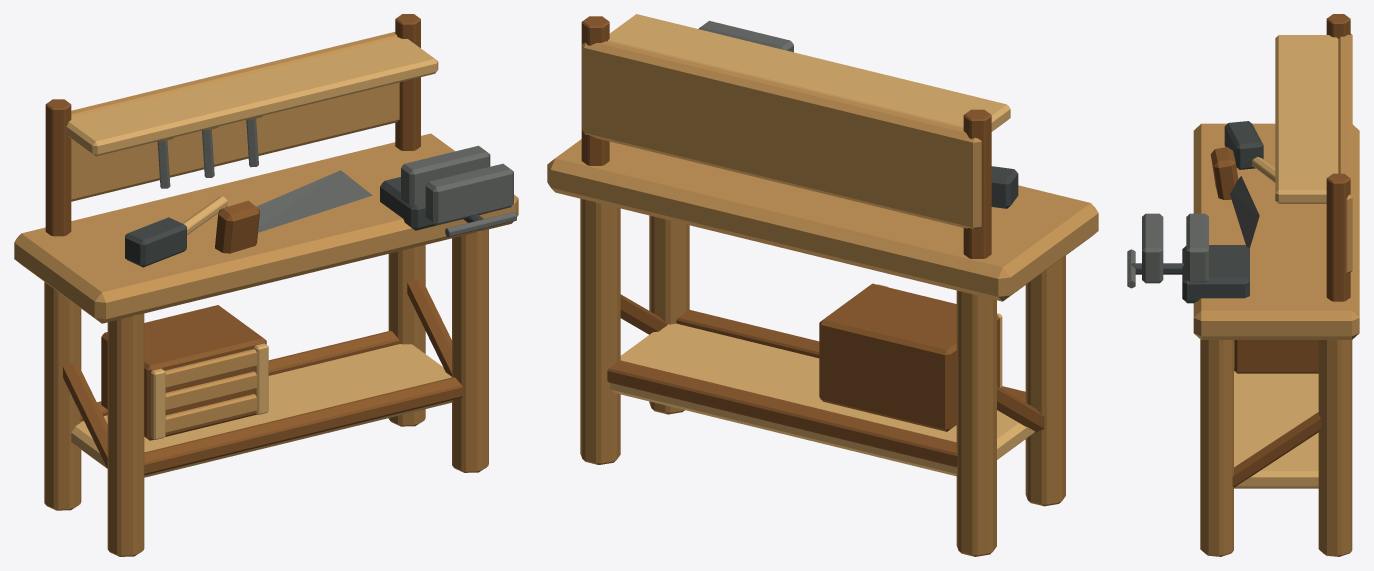
Rendered from island_workbench.glb.
3 renders of one model, left to right at view 1: azimuth 30°, elevation 25°; view 2: azimuth 150°, elevation 25°; view 3: azimuth 270°, elevation 25°, orthographic. The views are drawn at different scales.
Visible parts, largest first — view 1: Workbench_Top, Workbench_Tool_Shelf, Workbench_Backboard, Workbench_Lower_Shelf, Workbench_Leg, Workbench_Leg.002, Workbench_Supply_Crate_Body, Workbench_Long_Brace, Workbench_Leg.001, Vise_Moving_Jaw, Workbench_Back_Post, Workbench_Leg.003 (+16 smaller); view 2: Workbench_Backboard, Workbench_Top, Workbench_Supply_Crate_Body, Workbench_Lower_Shelf, Workbench_Tool_Shelf, Workbench_Leg.001, Workbench_Leg.003, Workbench_Leg, Workbench_Long_Brace.001, Workbench_Leg.002, Workbench_Long_Brace, Workbench_Back_Post (+5 smaller); view 3: Workbench_Top, Workbench_Tool_Shelf, Workbench_Lower_Shelf, Workbench_Leg.003, Workbench_Leg.002, Vise_Base, Workbench_Supply_Crate_Body, Workbench_Back_Post.001, Workbench_Backboard, Workbench_Side_Brace.001, Vise_Fixed_Jaw, Vise_Moving_Jaw (+7 smaller).
Part boxes in pixels (x1=…): Workbench_Top: x1=14, y1=133, x2=518, y2=323; Workbench_Tool_Shelf: x1=66, y1=37, x2=438, y2=156; Workbench_Backboard: x1=71, y1=32, x2=399, y2=201; Workbench_Lower_Shelf: x1=71, y1=344, x2=452, y2=477; Workbench_Leg: x1=107, y1=313, x2=144, y2=556; Workbench_Leg.002: x1=452, y1=229, x2=488, y2=472; Workbench_Supply_Crate_Body: x1=101, y1=305, x2=266, y2=440; Workbench_Long_Brace: x1=144, y1=377, x2=463, y2=475; Workbench_Leg.001: x1=44, y1=282, x2=81, y2=510; Vise_Moving_Jaw: x1=425, y1=163, x2=513, y2=225; Workbench_Back_Post: x1=45, y1=99, x2=71, y2=236; Workbench_Leg.003: x1=388, y1=245, x2=425, y2=426; Workbench_Backboard: x1=582, y1=41, x2=981, y2=229; Workbench_Top: x1=547, y1=139, x2=1098, y2=301; Workbench_Supply_Crate_Body: x1=819, y1=283, x2=999, y2=431; Workbench_Lower_Shelf: x1=610, y1=323, x2=1035, y2=476; Workbench_Tool_Shelf: x1=607, y1=14, x2=1010, y2=131; Workbench_Leg.001: x1=956, y1=290, x2=996, y2=556; Workbench_Leg.003: x1=580, y1=198, x2=620, y2=464; Workbench_Leg: x1=1025, y1=255, x2=1065, y2=506; Workbench_Long_Brace.001: x1=607, y1=360, x2=957, y2=467; Workbench_Leg.002: x1=649, y1=215, x2=689, y2=414; Workbench_Long_Brace: x1=676, y1=309, x2=1026, y2=402; Workbench_Back_Post: x1=963, y1=109, x2=991, y2=258; Workbench_Top: x1=1193, y1=123, x2=1359, y2=339; Workbench_Tool_Shelf: x1=1275, y1=35, x2=1338, y2=203; Workbench_Lower_Shelf: x1=1234, y1=371, x2=1318, y2=488; Workbench_Leg.003: x1=1318, y1=340, x2=1352, y2=556; Workbench_Leg.002: x1=1200, y1=339, x2=1233, y2=556; Vise_Base: x1=1182, y1=245, x2=1249, y2=303; Workbench_Supply_Crate_Body: x1=1234, y1=340, x2=1318, y2=373; Workbench_Back_Post.001: x1=1326, y1=173, x2=1350, y2=301; Workbench_Backboard: x1=1338, y1=33, x2=1352, y2=273; Workbench_Side_Brace.001: x1=1232, y1=412, x2=1321, y2=487; Vise_Fixed_Jaw: x1=1186, y1=213, x2=1208, y2=282; Vise_Moving_Jaw: x1=1142, y1=213, x2=1163, y2=283.
Bounding box in the file's own units: 3.25 × 2.93 × 1.65.
